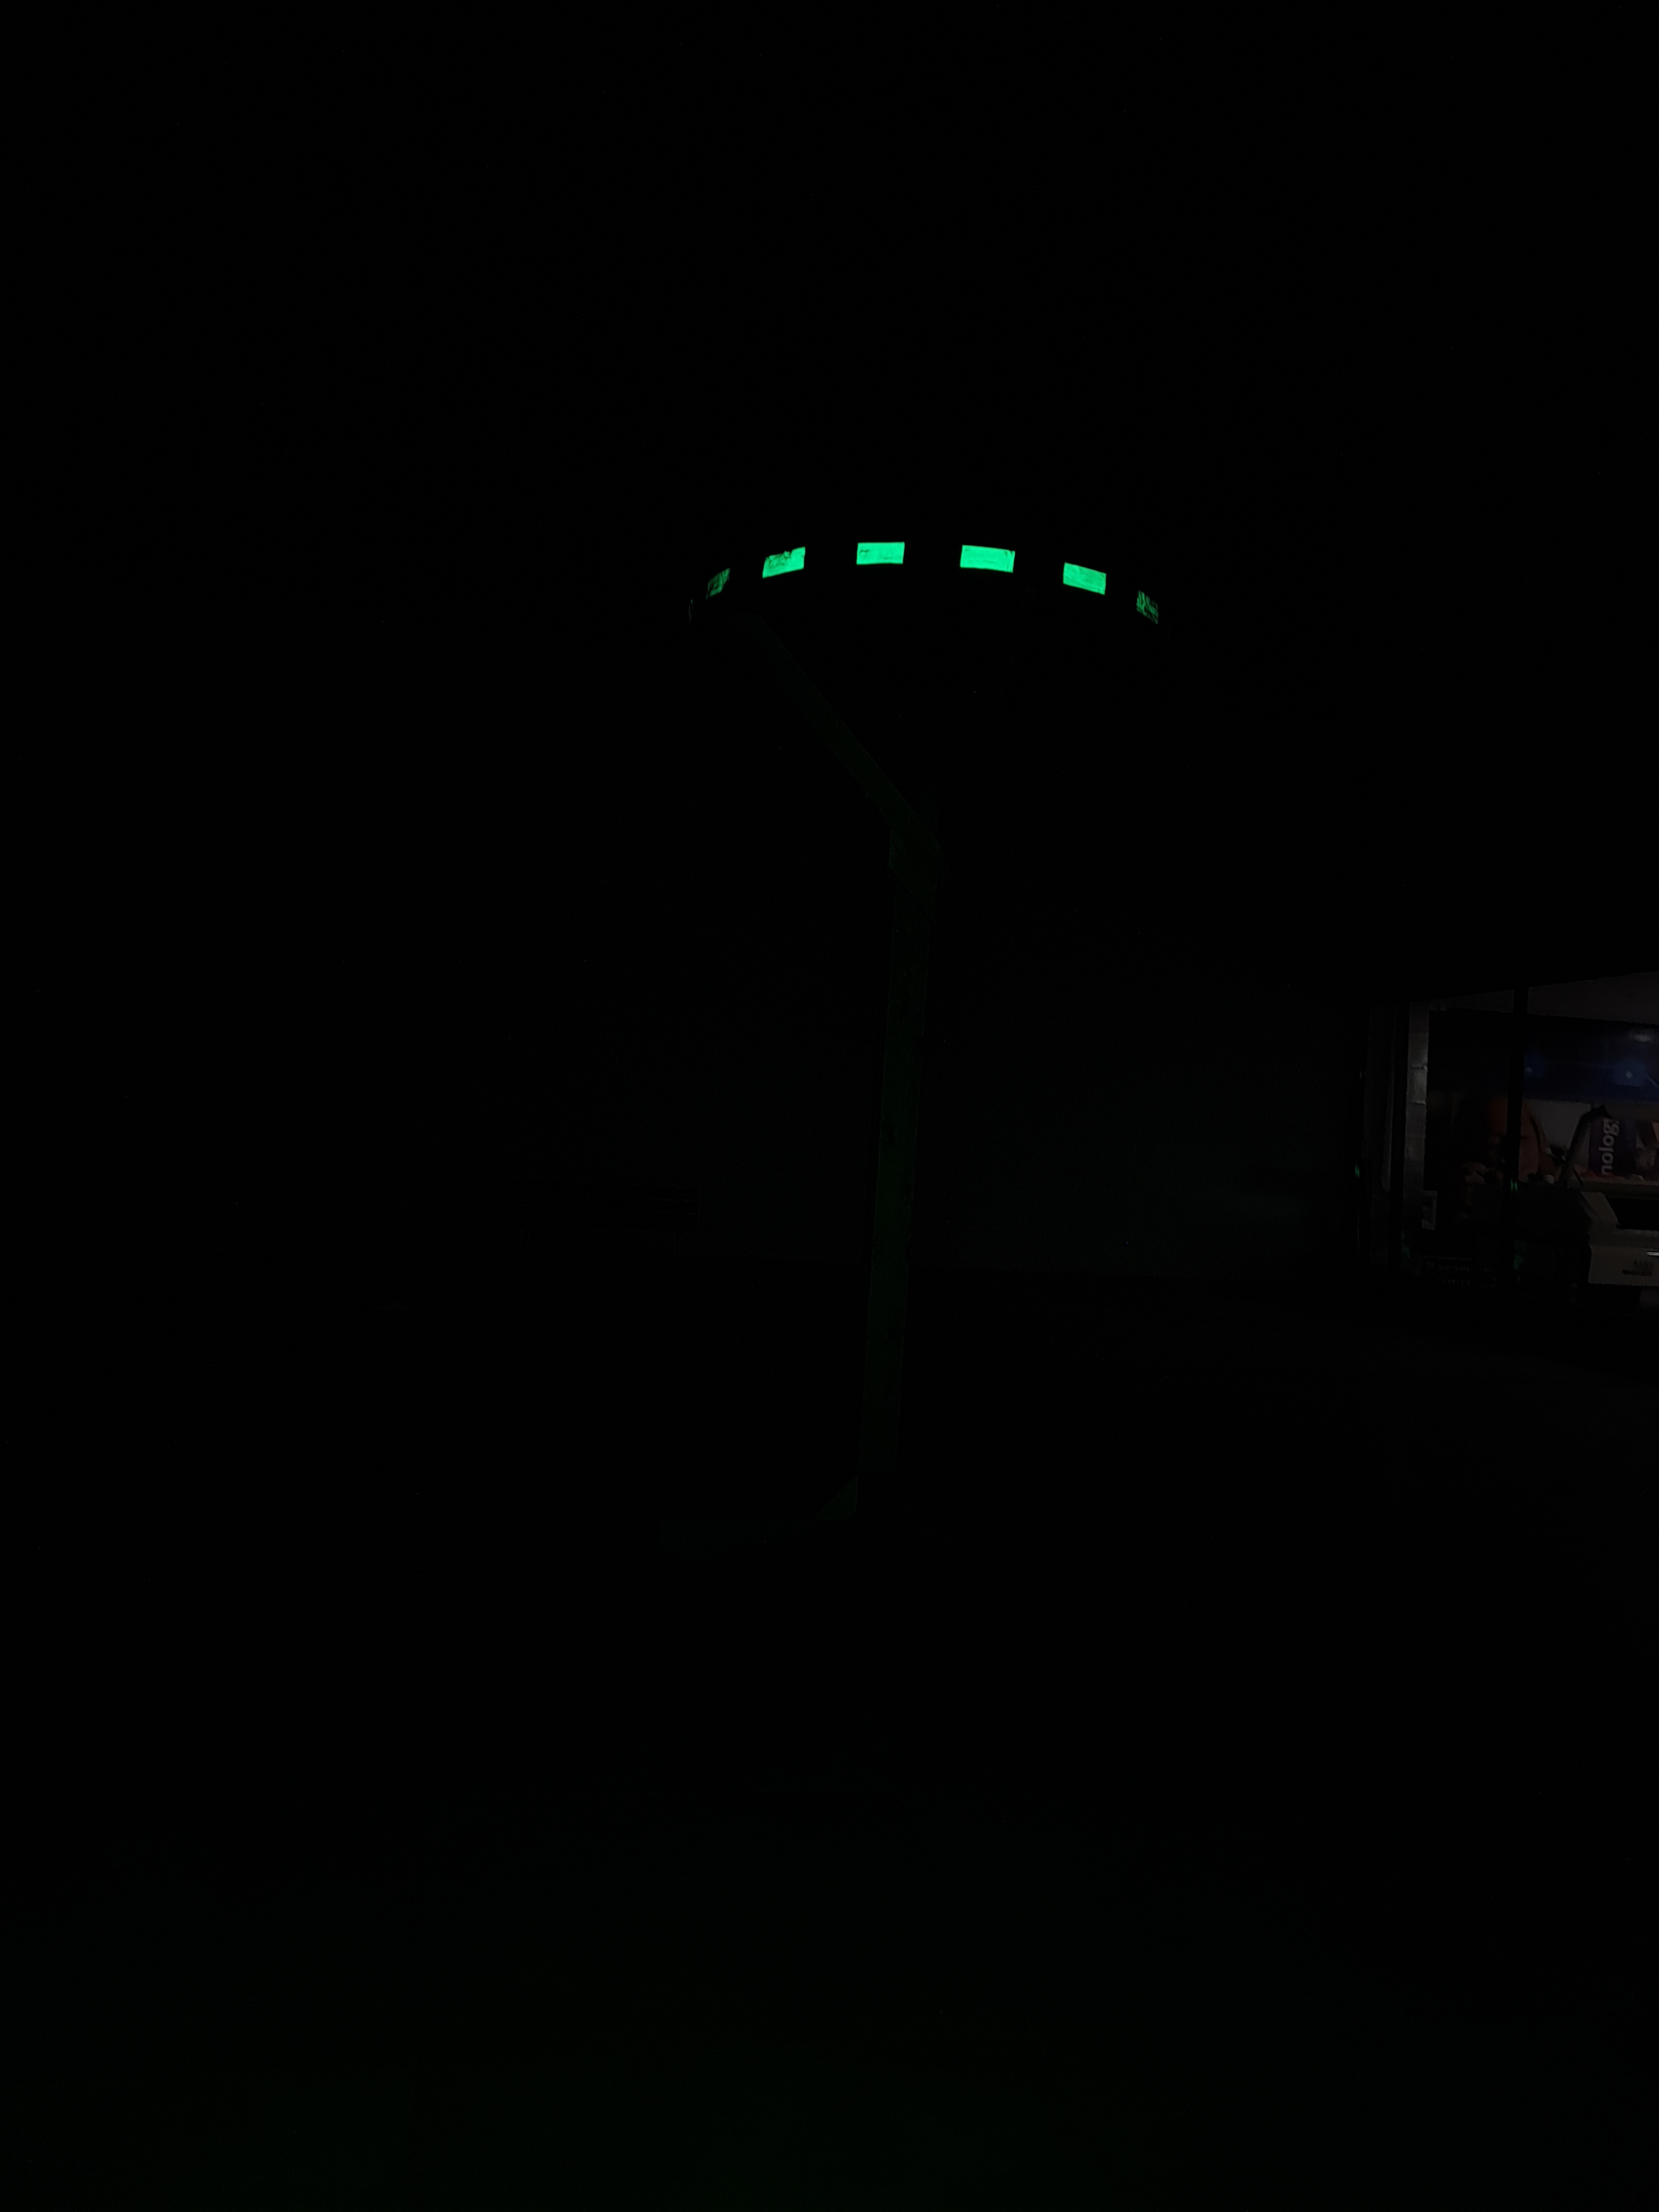hoop: (667, 502, 1178, 646)
